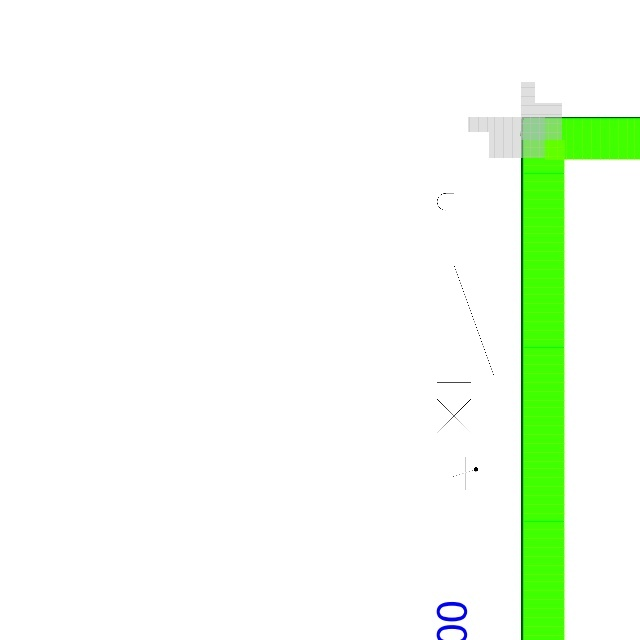interruptor_termomagnetico: (430, 165, 501, 457)
